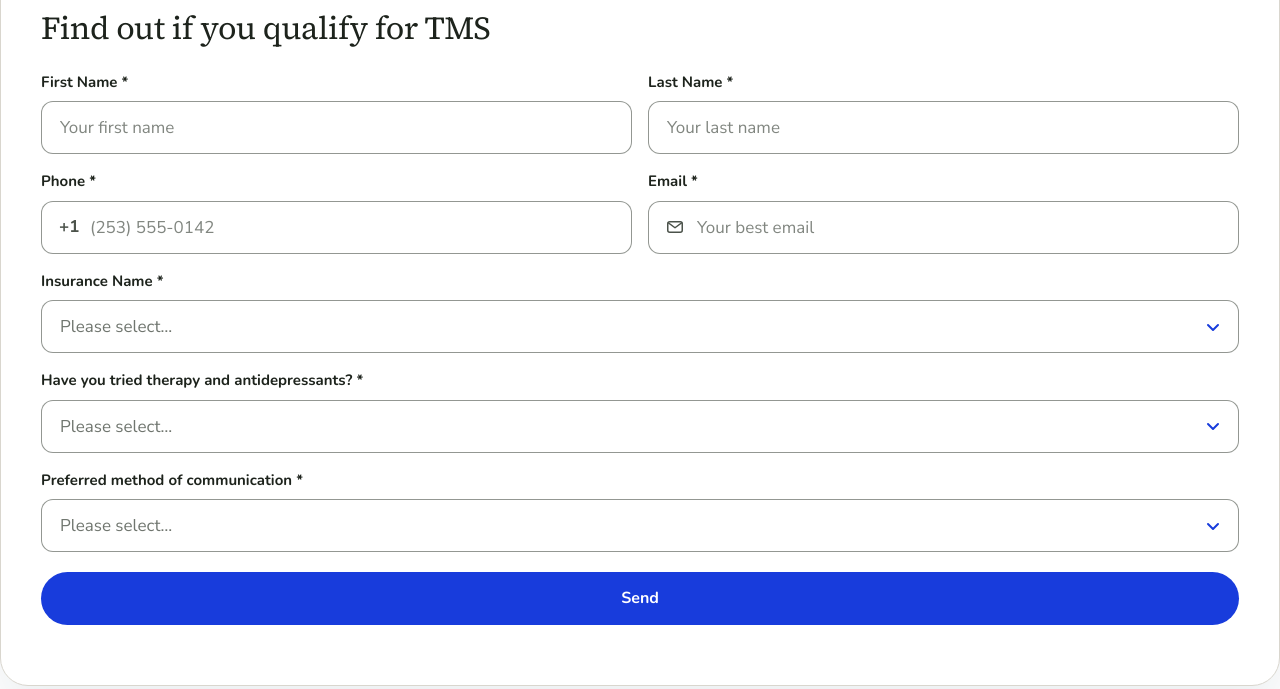
Test: ConsultationForm › checks required fields before sending anything
The width and height of the screenshot is (1280, 689).
Click the button "Send".
click(640, 599)  # box [41,572,1239,626]
(page scrolled)
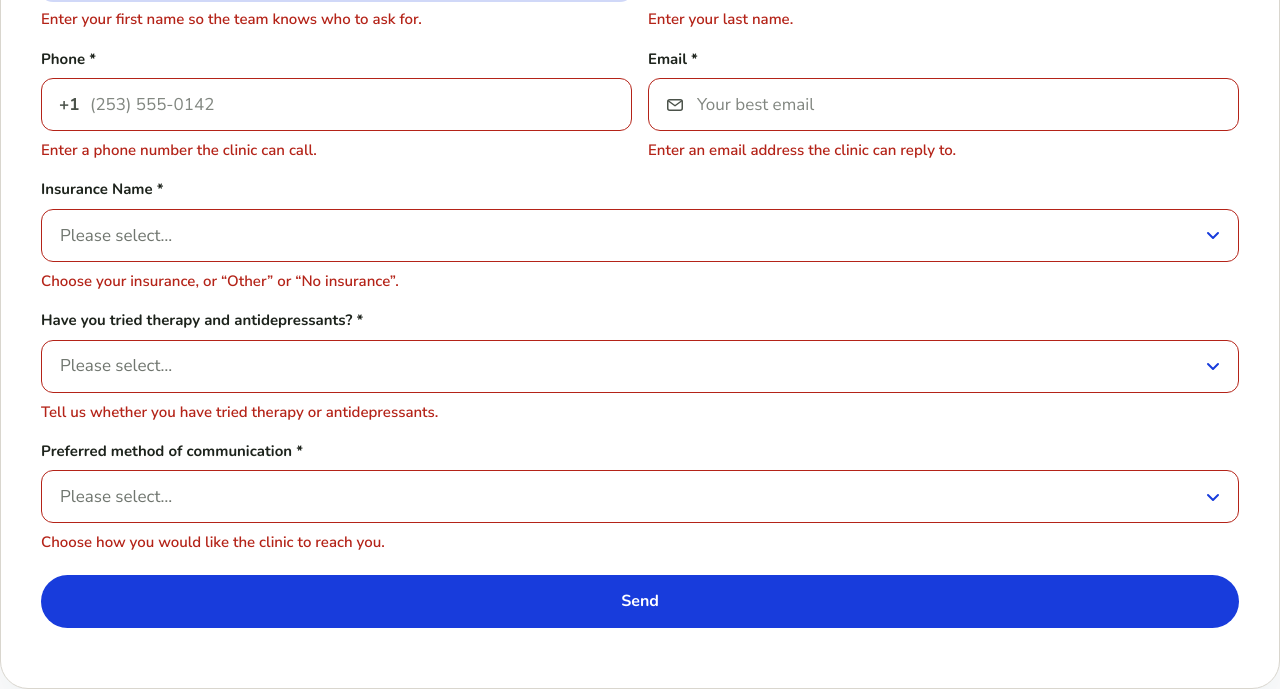
Expected: the text "Enter your first name so the team knows who to ask for." is shown, [41,9,422,29]
Expected: the text "Enter an email address the clinic can reply to." is shown, [648,140,956,160]
Expected: the text "Choose how you would like the clinic to reach you." is shown, [41,532,385,552]
